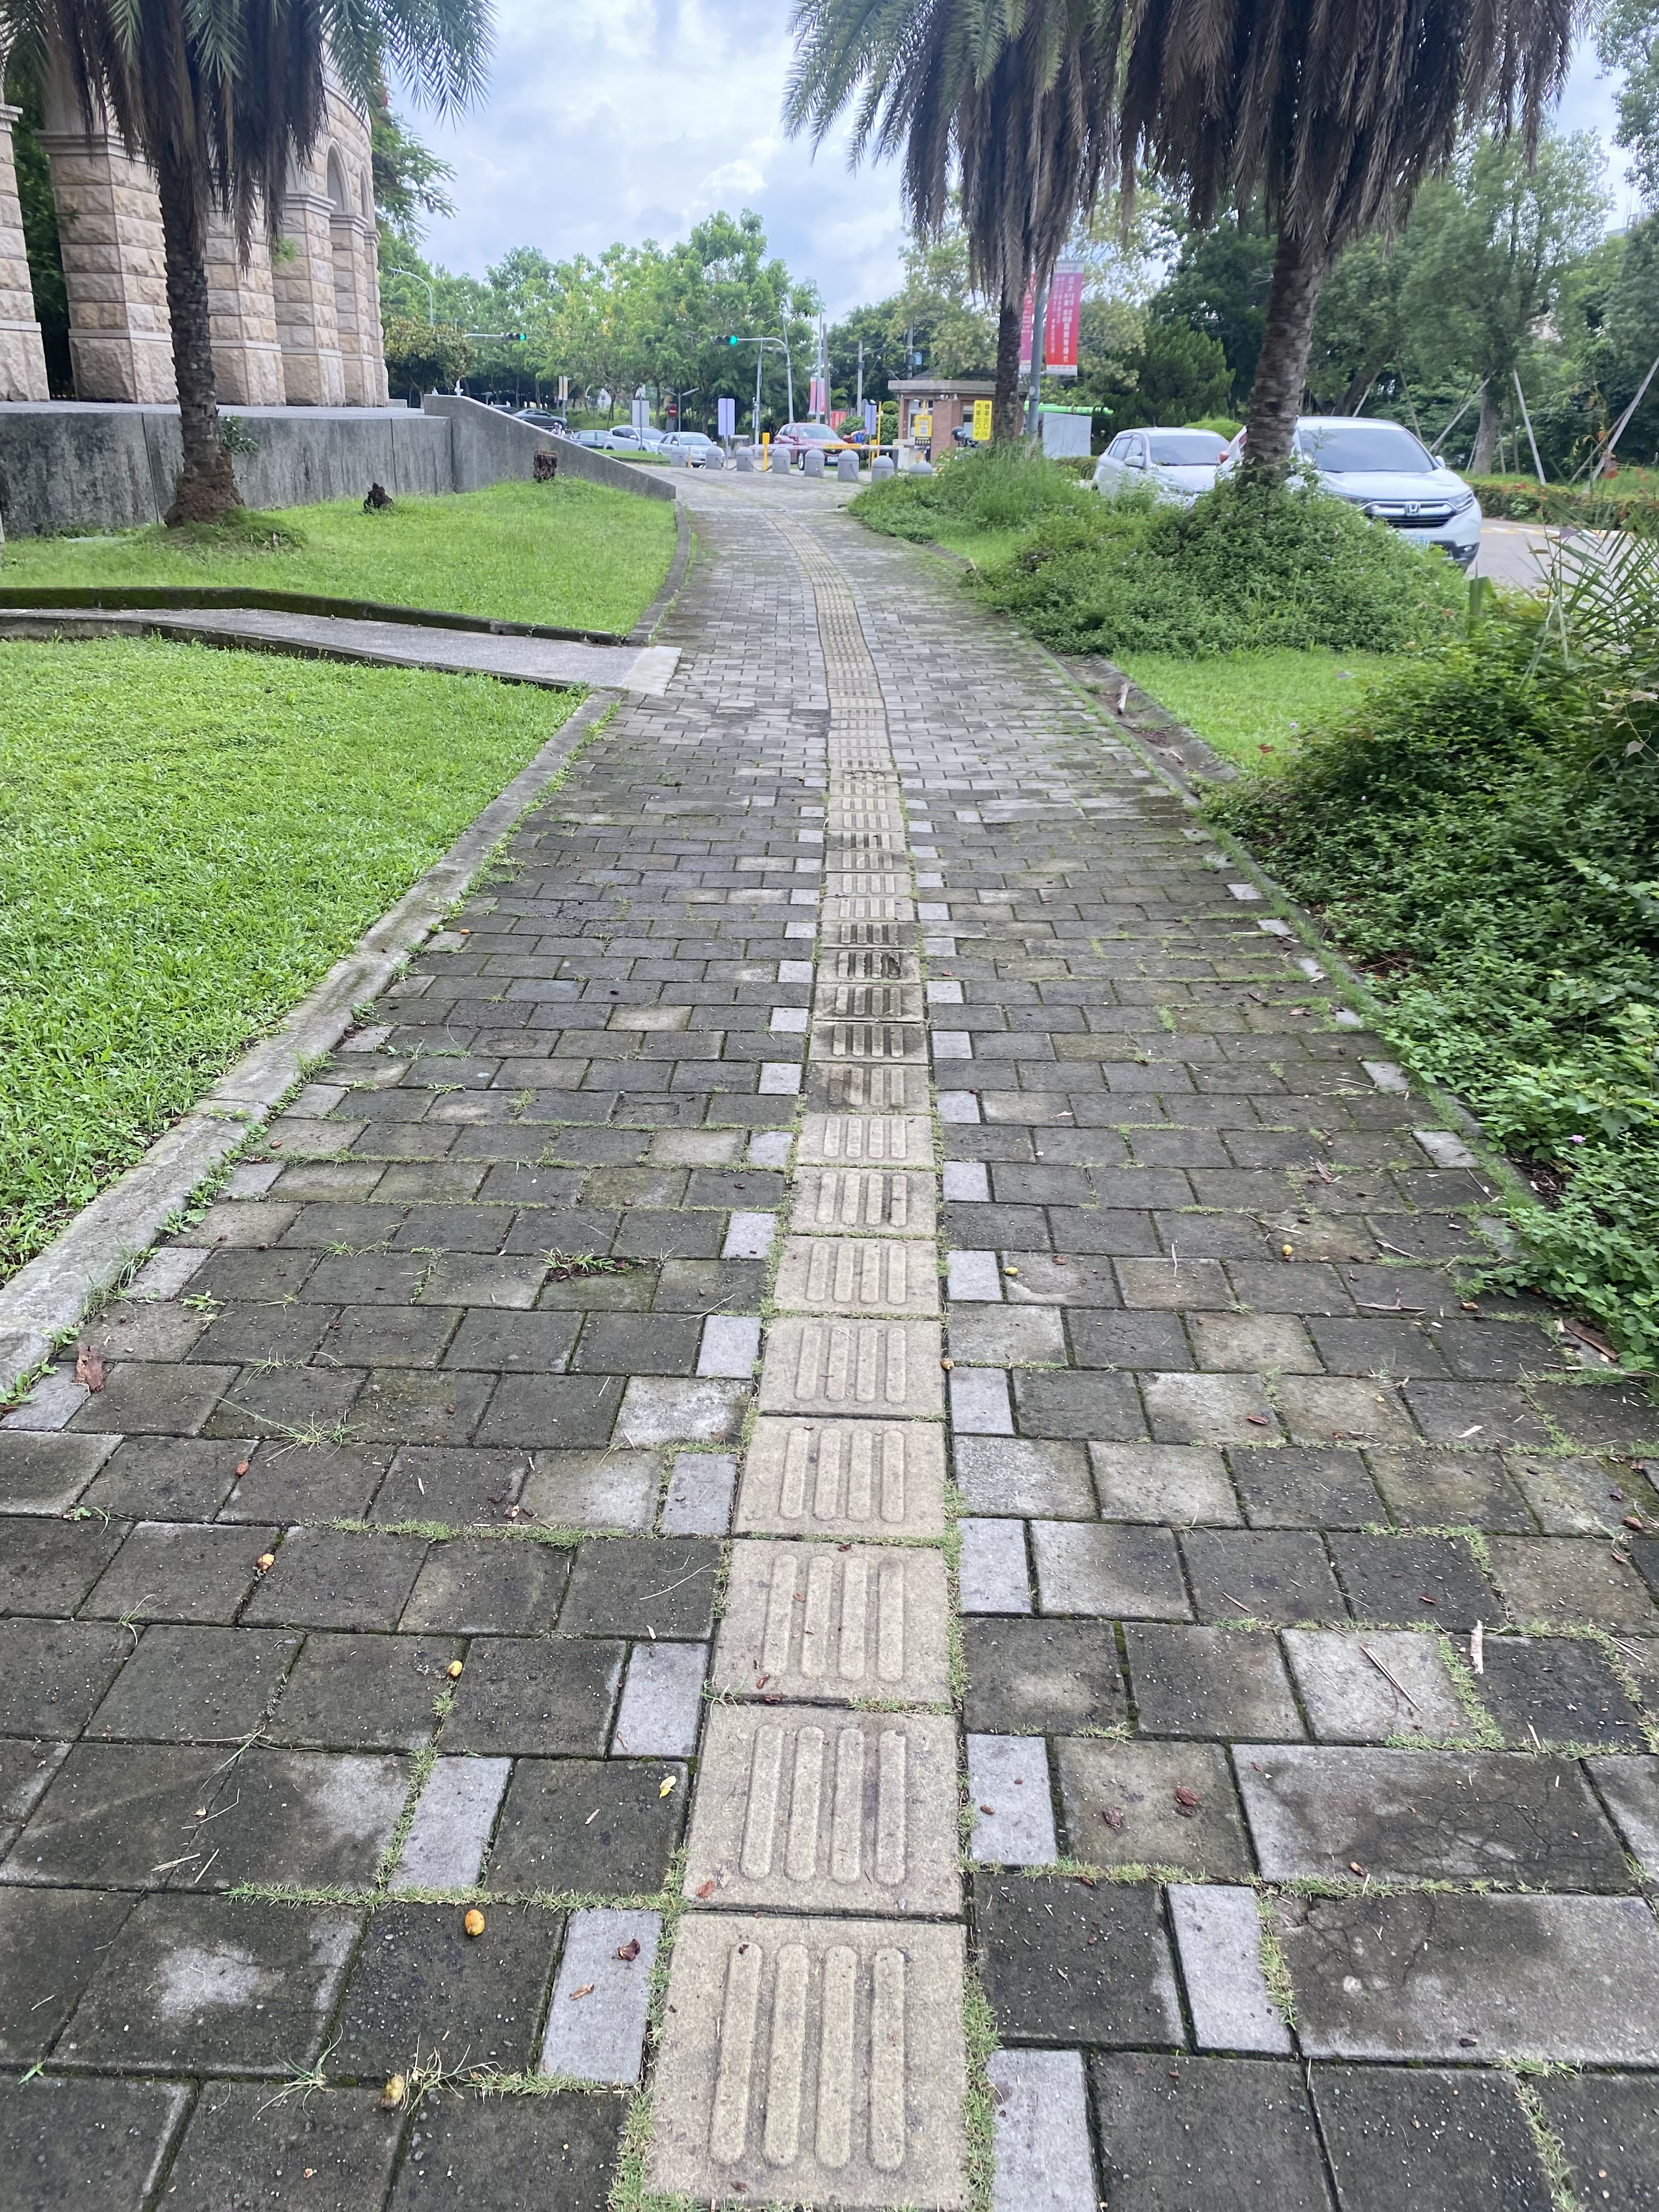0: (3, 721, 1659, 2212)
sidewalk: (589, 415, 1157, 1554)
